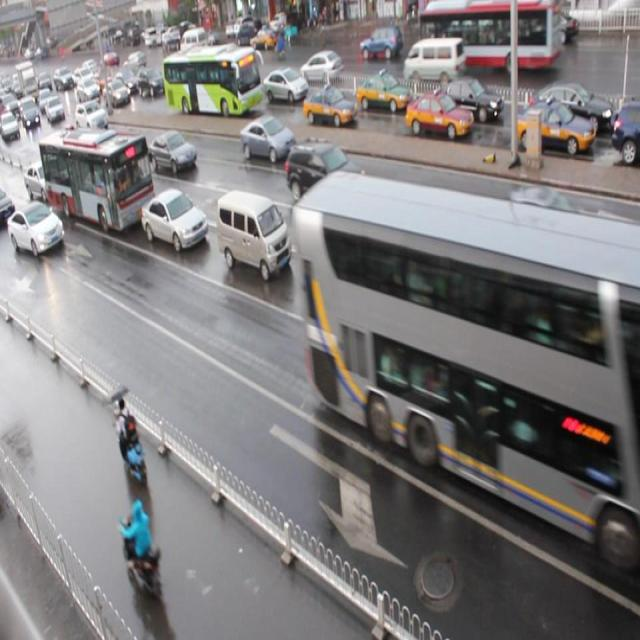car: (300, 229, 403, 321), (285, 138, 370, 208), (528, 81, 611, 137), (514, 99, 592, 158), (140, 188, 208, 252), (510, 185, 579, 246), (404, 91, 472, 145), (436, 76, 501, 127), (608, 330, 640, 432), (8, 200, 65, 255), (241, 116, 298, 167), (357, 70, 409, 114), (304, 87, 357, 129), (148, 133, 196, 173), (610, 100, 640, 161), (22, 160, 62, 204), (263, 68, 309, 104), (100, 132, 144, 168), (74, 100, 109, 133), (138, 66, 166, 98)
truck: (438, 240, 568, 389), (215, 188, 290, 284)
van: (294, 170, 640, 566), (38, 127, 154, 235), (162, 48, 262, 118)
